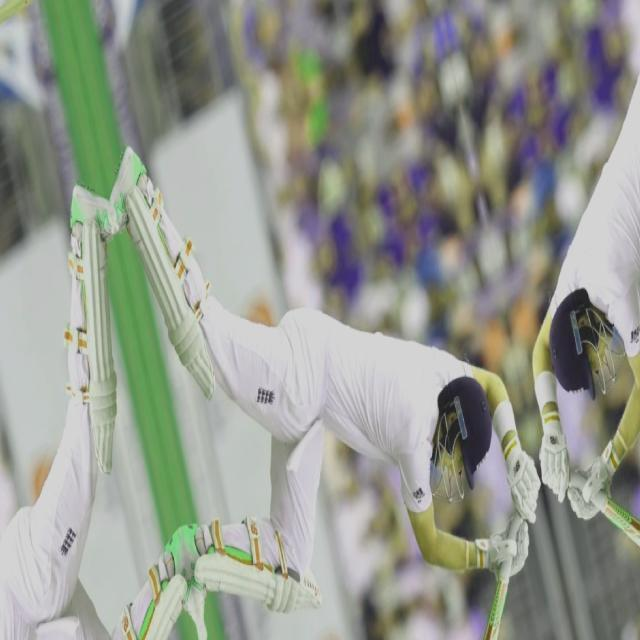bat: (479, 565, 512, 640)
